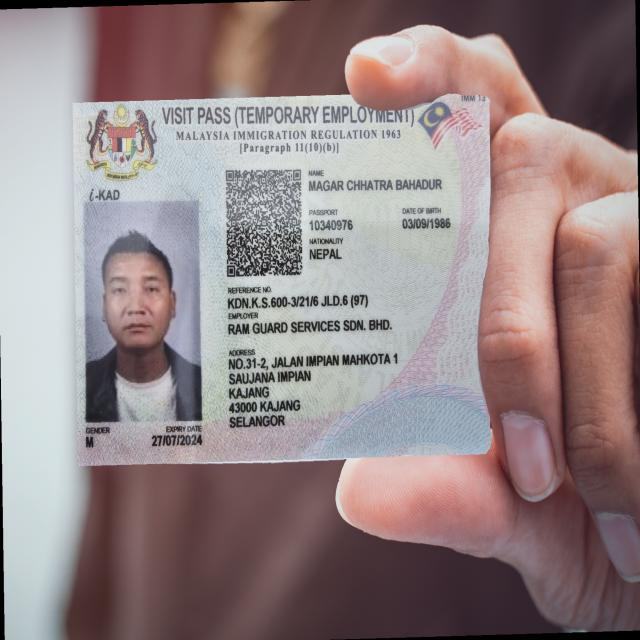ikad-temp: (71, 92, 492, 465)
